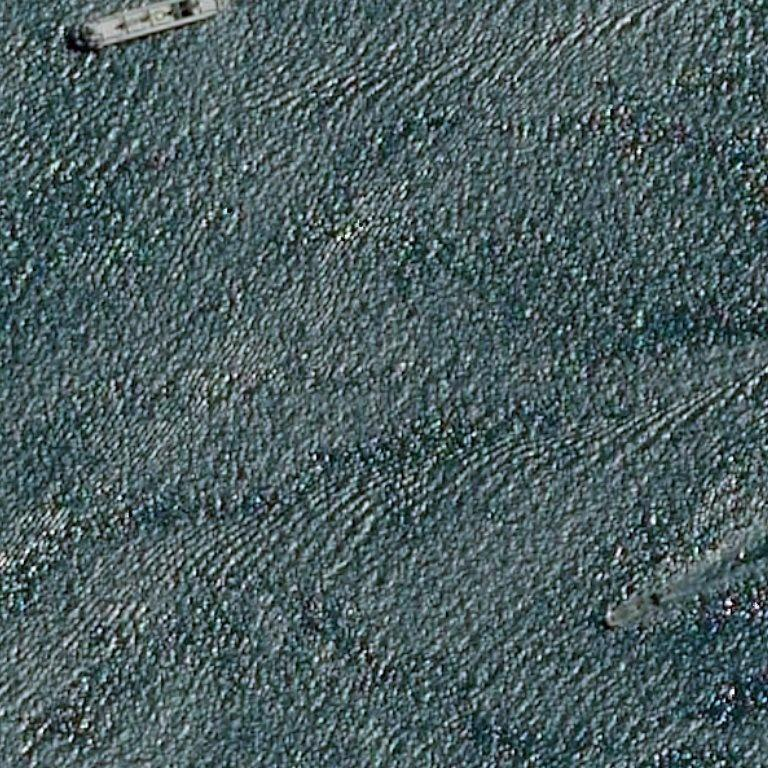ship: (0, 0, 168, 60), (634, 581, 641, 635), (67, 28, 74, 39), (204, 1, 211, 9), (639, 585, 645, 593), (604, 618, 610, 625), (651, 603, 657, 609), (56, 12, 63, 13)
